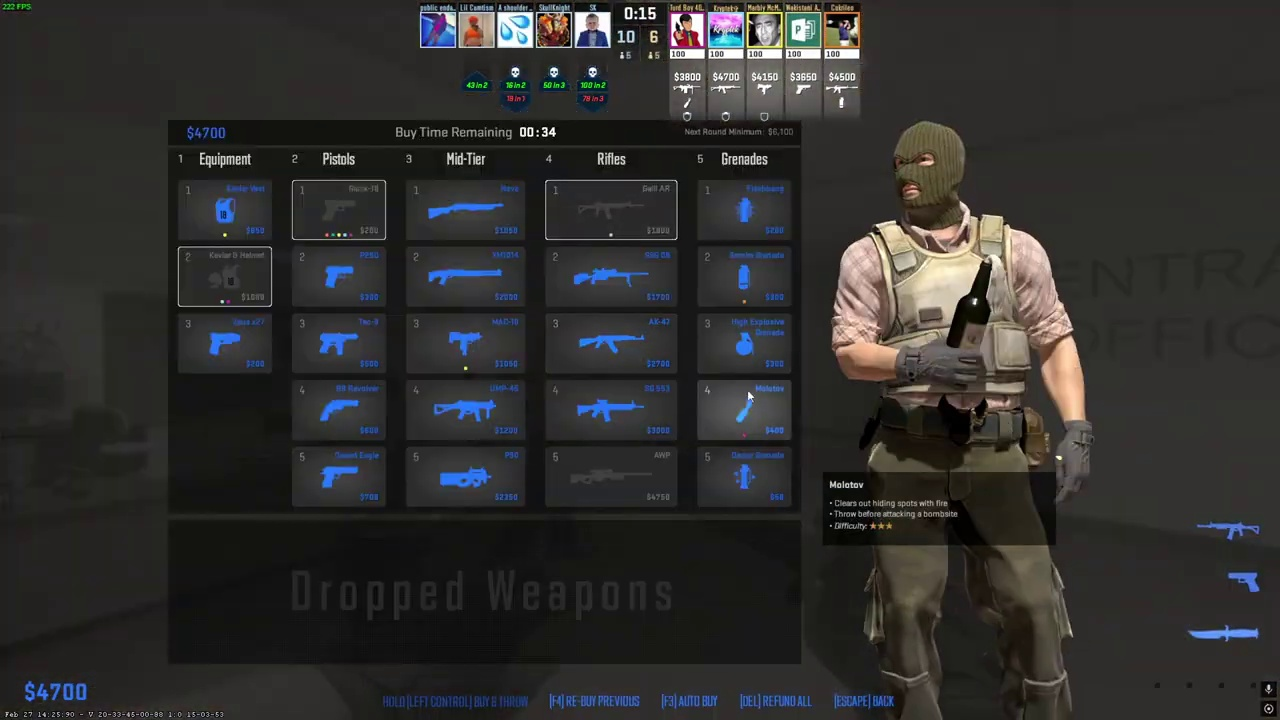Terrorist: (844, 121, 1079, 720)
